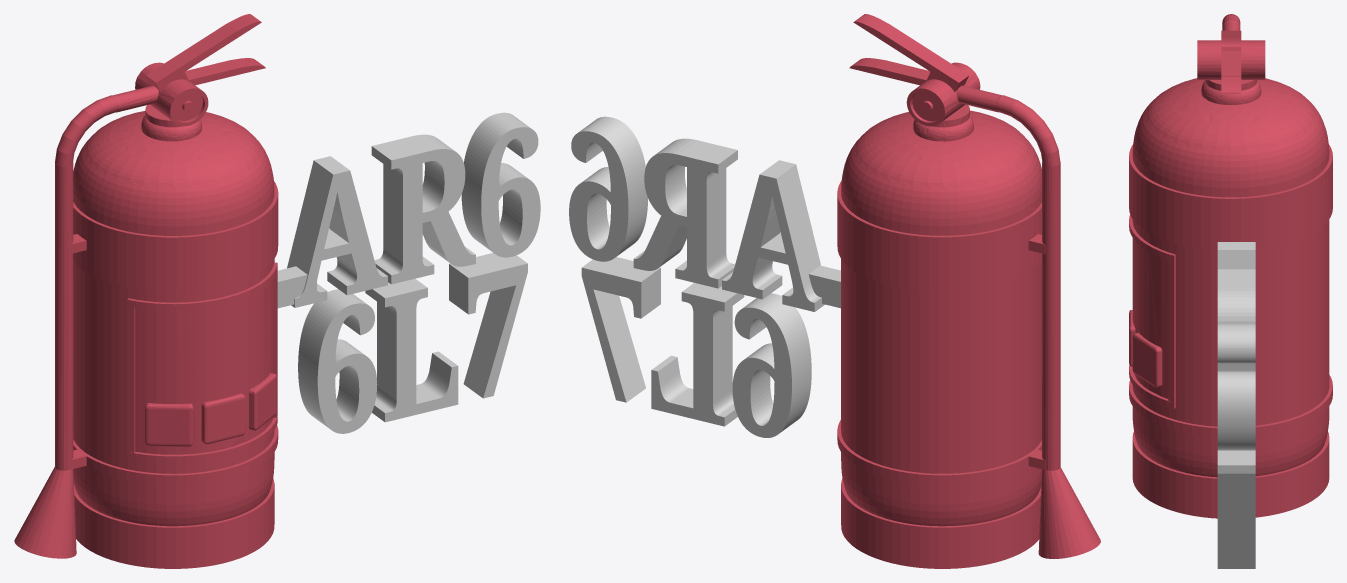
Rendered from Glorious Stantia-Robo.glb.
The picture shows the model from 3 angles, left to right: view 1: azimuth 30°, elevation 25°; view 2: azimuth 150°, elevation 25°; view 3: azimuth 270°, elevation 25°; orthographic projection. The views are drawn at different scales.
Parts seen in each view (by area): view 1: Mesh_Mesh_head_geo.001_lambert2SG.001; view 2: Mesh_Mesh_head_geo.001_lambert2SG.001; view 3: Mesh_Mesh_head_geo.001_lambert2SG.001.
Part boxes in pixels (left/top/right/bottom): Mesh_Mesh_head_geo.001_lambert2SG.001: left=14, top=14, right=540, bottom=568; Mesh_Mesh_head_geo.001_lambert2SG.001: left=569, top=14, right=1100, bottom=568; Mesh_Mesh_head_geo.001_lambert2SG.001: left=1129, top=14, right=1332, bottom=568.
Size of the model in its own units: 408 by 370 by 145.
